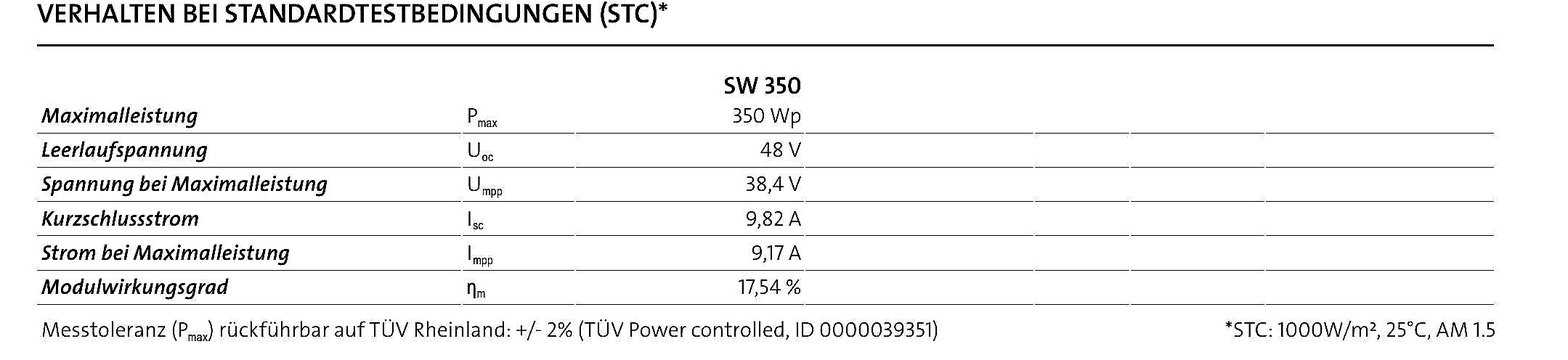table: (20, 38, 1500, 311)
table column: (635, 44, 1495, 300), (28, 45, 454, 308), (450, 44, 635, 306)
table name: (24, 1, 691, 33)
table row: (24, 49, 1499, 132), (22, 131, 1498, 169), (22, 237, 1500, 272), (24, 202, 1499, 237), (24, 168, 1499, 201), (24, 272, 1499, 303)
table row header: (28, 47, 455, 304)
